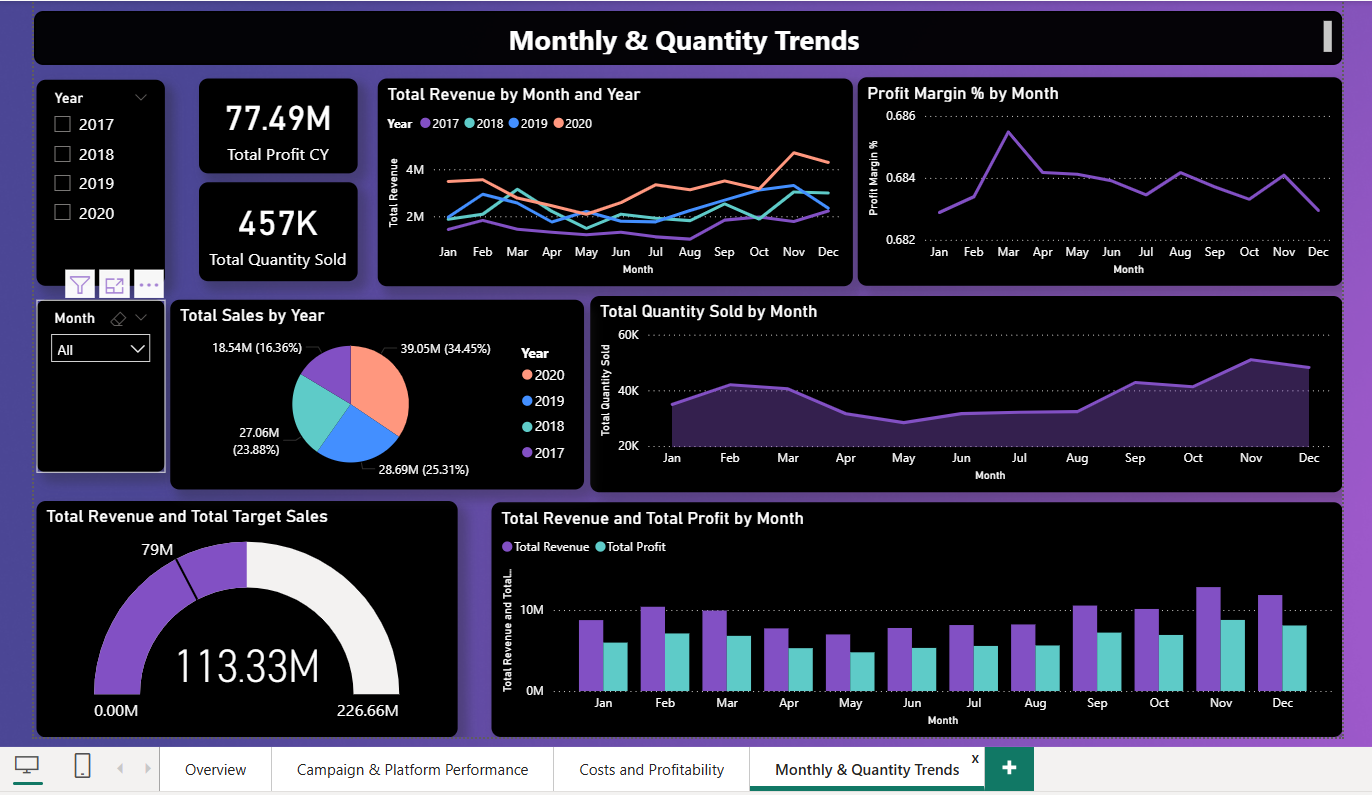

This screenshot's page, from the dashboard's own definition file:
{"tool":"powerbi","page":{"name":"Monthly & Quantity Trends","canvas":[1280,720],"ordinal":3},"visuals":[{"type":"slicer","fields":{"Values":["Data.Year"]},"box":[0,86.8,126,163.9],"z":0},{"type":"slicer","fields":{"Values":["Data.Month"]},"box":[0,273.9,126,127.2],"z":1000},{"type":"lineChart","fields":{"Y":["Data.Total Revenue"],"Series":["Data.Year"],"Category":["Data.Month"]},"box":[336.3,75.8,464.7,203],"z":2000},{"type":"lineChart","fields":{"Category":["Data.Month"],"Y":["Data.Profit Margin %"]},"box":[805.8,74.6,474.5,204.2],"z":3000},{"type":"areaChart","fields":{"Y":["Data.Total Quantity Sold"],"Category":["Data.Month"]},"box":[544.2,288.6,736.1,192],"z":4000},{"type":"clusteredColumnChart","fields":{"Category":["Data.Month"],"Y":["Data.Total Revenue","Data.Total Profit"]},"box":[447.6,490.4,832.7,229.9],"z":5000},{"type":"gauge","fields":{"Y":["Data.Total Revenue"],"TargetValue":["Sales Target.Total Target Sales"]},"box":[2.4,489.1,412.1,231.1],"z":6000},{"type":"card","fields":{"Values":["Data.Total Profit CY"]},"box":[161.4,75.8,155.3,92.9],"z":7000},{"type":"pieChart","fields":{"Category":["Data.Year"],"Y":["Data.Total Sales"]},"box":[133.3,292.3,404.8,185.9],"z":8000},{"type":"card","fields":{"Values":["Data.Total Quantity Sold"]},"box":[161.4,177.3,155.3,96.6],"z":9000},{"type":"textbox","box":[0,9.8,1280.3,52.6],"z":10000}]}

Visuals, with their boxes in screenshot pixels (x1, y1, x2, y2):
slicer - Data.Year: rect(32, 88, 161, 256)
slicer - Data.Month: rect(32, 279, 161, 409)
lineChart - Data.Total Revenue x Data.Year: rect(375, 77, 849, 284)
lineChart - Data.Month x Data.Profit Margin %: rect(854, 76, 1338, 284)
areaChart - Data.Total Quantity Sold x Data.Month: rect(587, 294, 1338, 490)
clusteredColumnChart - Data.Month x Data.Total Revenue: rect(489, 500, 1338, 734)
gauge - Data.Total Revenue x Sales Target.Total Target Sales: rect(35, 499, 455, 734)
card - Data.Total Profit CY: rect(197, 77, 355, 172)
pieChart - Data.Year x Data.Total Sales: rect(168, 298, 581, 488)
card - Data.Total Quantity Sold: rect(197, 181, 355, 279)
textbox: rect(32, 10, 1338, 64)
